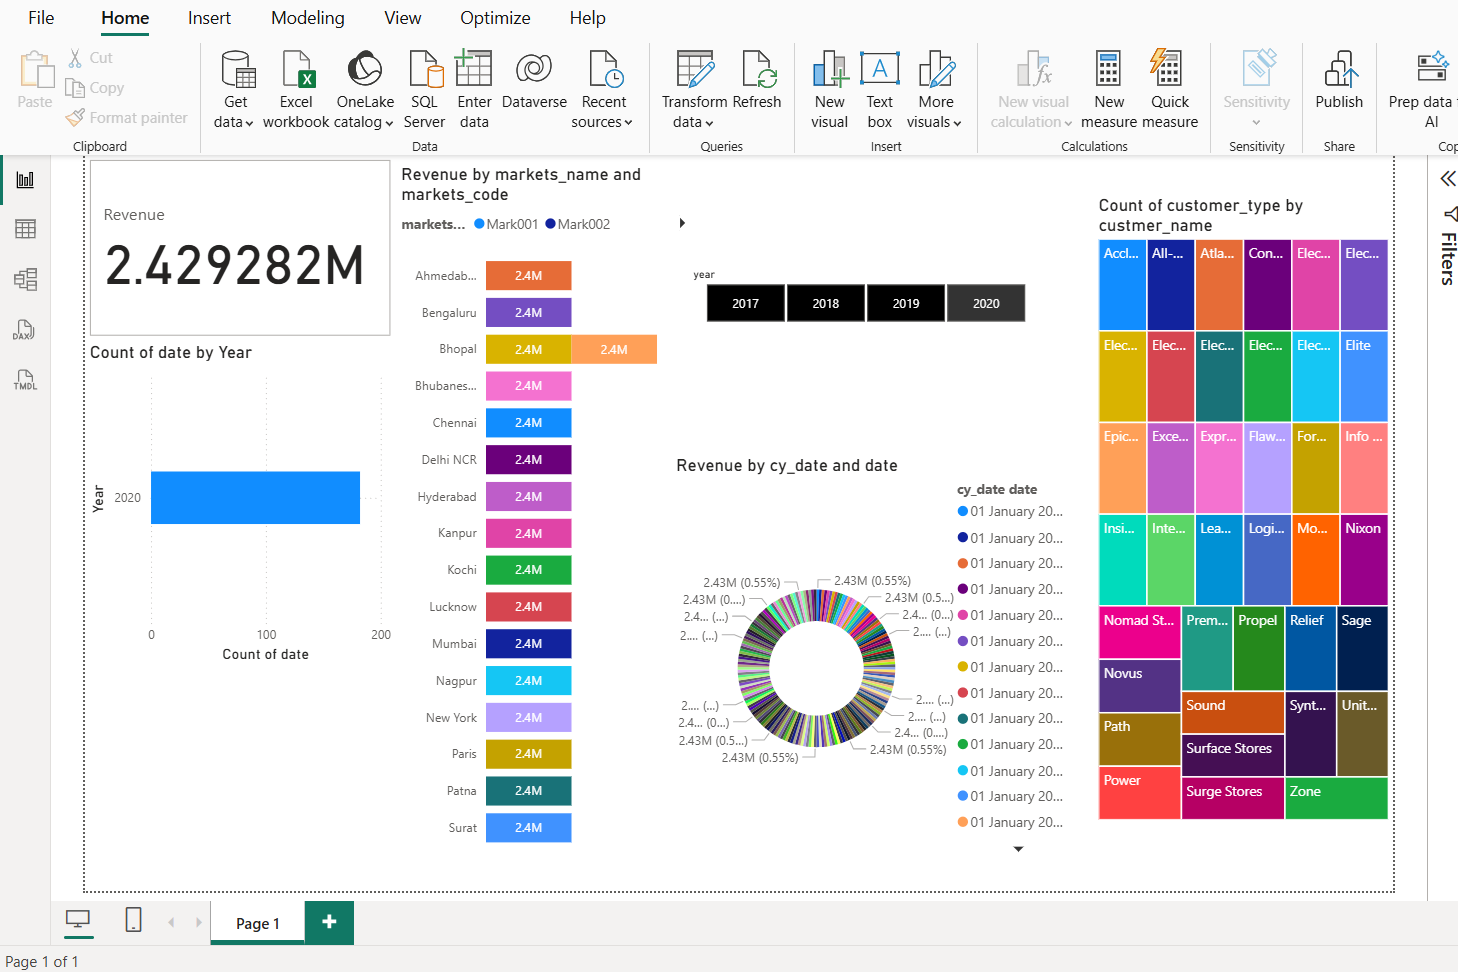

What the dashboard file says about the page in this screenshot:
{"tool":"powerbi","page":{"name":"Page 1","canvas":[1280,720],"ordinal":0},"visuals":[{"type":"cardVisual","fields":{"Data":["base measures.sales quantity"]},"box":[0,0,304.6,182.5],"z":0},{"type":"barChart","fields":{"Category":["sales date.date.Variation.Date Hierarchy.Year","sales date.date.Variation.Date Hierarchy.Quarter","sales date.date.Variation.Date Hierarchy.Month","sales date.date.Variation.Date Hierarchy.Day"],"Y":["sales date.date"]},"box":[0,182.2,304.5,319.2],"z":1000},{"type":"barChart","fields":{"Y":["base measures.Revenue"],"Category":["sales markets.markets_name"],"Series":["sales markets.markets_code"]},"box":[304.5,8.6,299.6,683.6],"z":2000},{"type":"slicer","fields":{"Values":["sales date.year"]},"box":[582.1,105.2,362,64.8],"z":4000},{"type":"donutChart","fields":{"Category":["sales date.cy_date","sales date.date"],"Y":["base measures.Revenue"]},"box":[573.5,293.5,403.5,398.6],"z":4001},{"type":"treemap","fields":{"Group":["sales customers.custmer_name"],"Values":["sales customers.customer_type"]},"box":[986.8,39.1,293.5,616.3],"z":4002}]}

Visuals, with their boxes on the page's 1280x720 design canvas (x1, y1, x2, y2). These are canvas units, not pixel positions in the 1458x972 screenshot, which may show the page scaled, cropped or inside an application window:
cardVisual - base measures.sales quantity: [left=0, top=0, right=305, bottom=182]
barChart - sales date.date.Variation.Date Hierarchy.Year x sales date.date.Variation.Date Hierarchy.Quarter: [left=0, top=182, right=304, bottom=501]
barChart - base measures.Revenue x sales markets.markets_name: [left=304, top=9, right=604, bottom=692]
slicer - sales date.year: [left=582, top=105, right=944, bottom=170]
donutChart - sales date.cy_date x sales date.date: [left=574, top=294, right=977, bottom=692]
treemap - sales customers.custmer_name x sales customers.customer_type: [left=987, top=39, right=1280, bottom=655]
